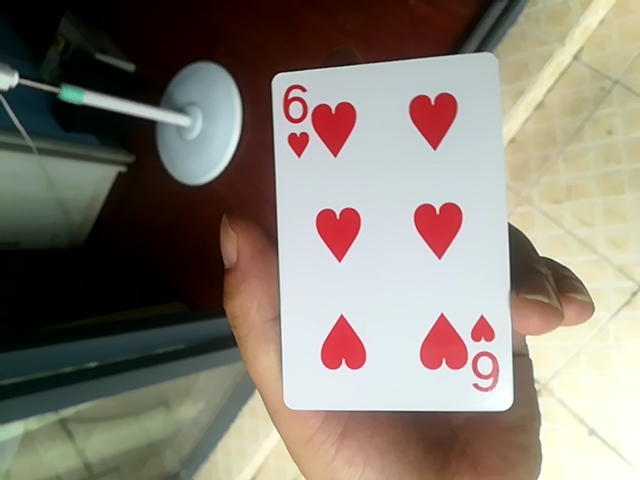hx 6: (277, 46, 518, 415)
